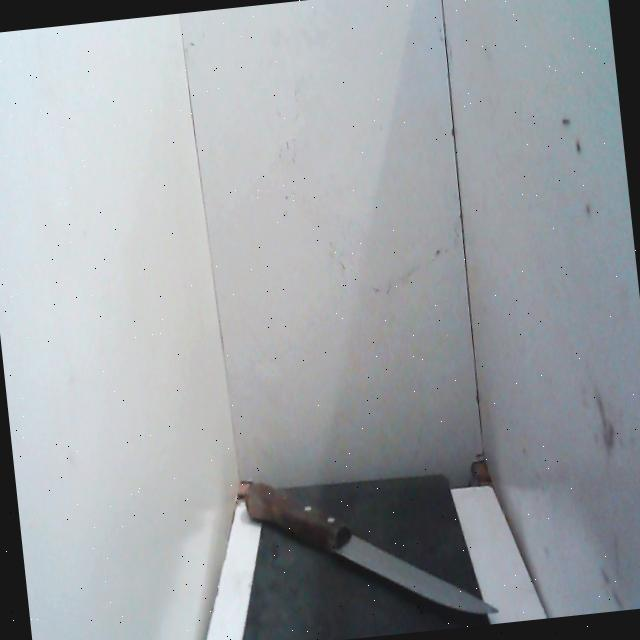metal: (326, 505, 514, 640)
